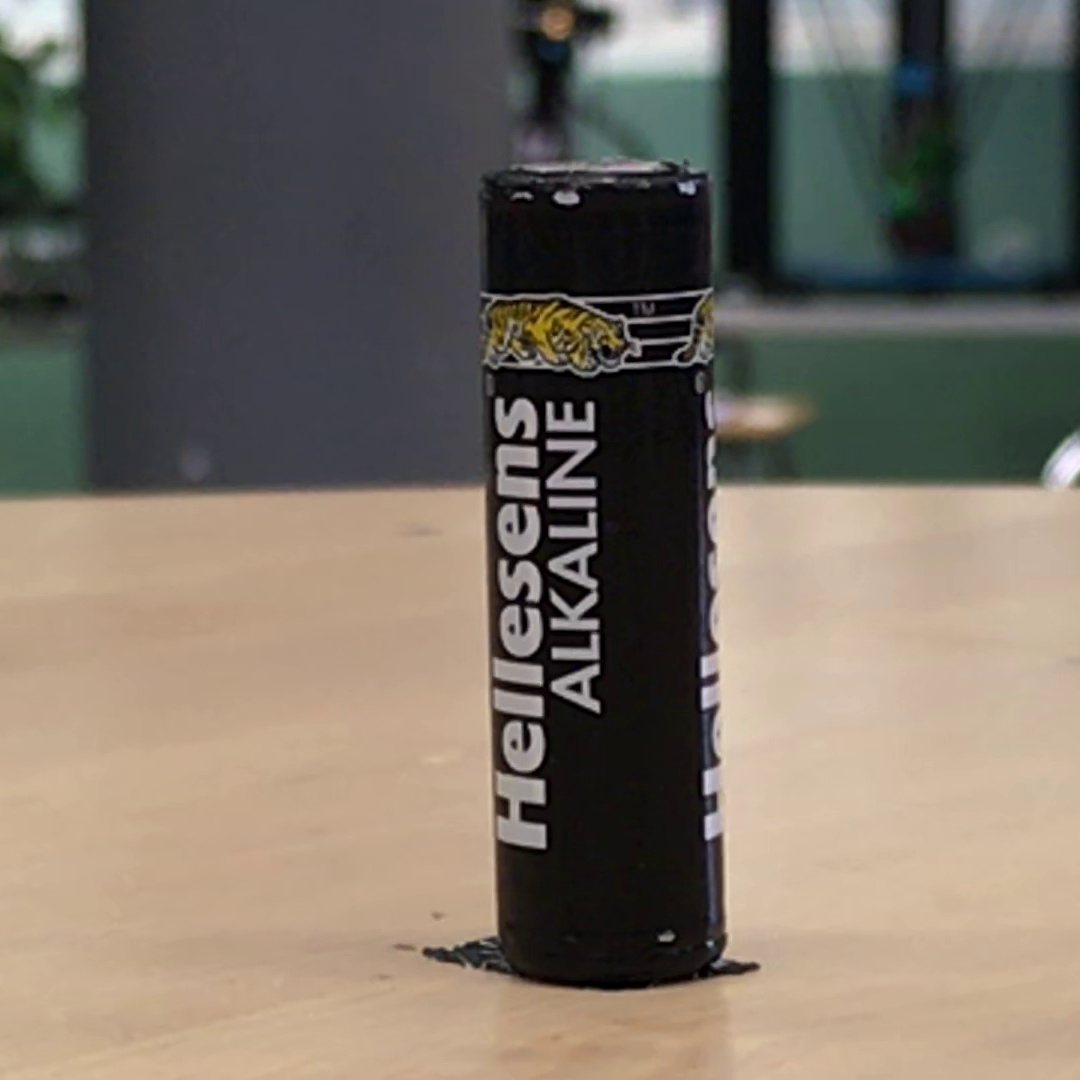keyword: (508, 319, 610, 722)
